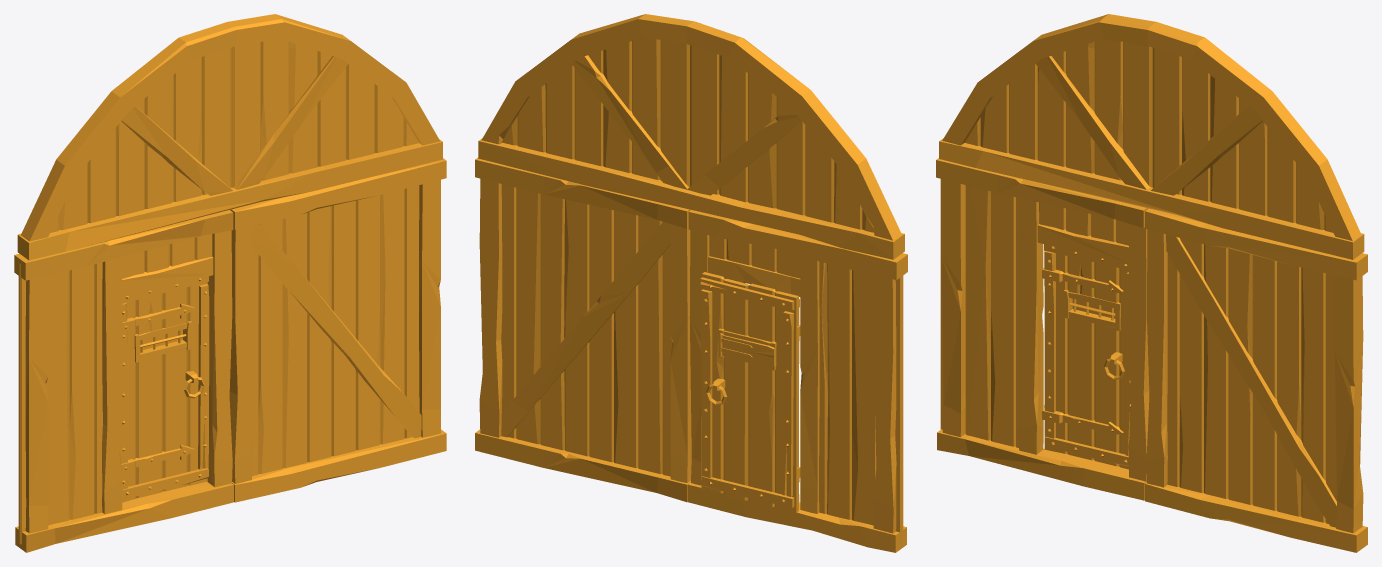
Rendered from SM_Door_Wood_Gate_Fantasy.fbx.
3 views of the same model, side by side, from view 1: azimuth 30°, elevation 25°; view 2: azimuth 150°, elevation 25°; view 3: azimuth 330°, elevation 25° (orthographic).
Visible parts, largest first — view 1: SM_Door_Wood_Gate_Fantasy_Door_R, SM_Door_Wood_Gate_Fantasy_Base, SM_Door_Wood_Gate_Fantasy_Door_L, SM_Door_Wood_Gate_Fantasy_Door; view 2: SM_Door_Wood_Gate_Fantasy_Door_R, SM_Door_Wood_Gate_Fantasy_Base, SM_Door_Wood_Gate_Fantasy_Door_L, SM_Door_Wood_Gate_Fantasy_Door, SM_Door_Wood_Gate_Fantasy_Door_Hatch; view 3: SM_Door_Wood_Gate_Fantasy_Door_R, SM_Door_Wood_Gate_Fantasy_Base, SM_Door_Wood_Gate_Fantasy_Door_L, SM_Door_Wood_Gate_Fantasy_Door.
Part boxes in pixels (x1,y1,x2,y2): SM_Door_Wood_Gate_Fantasy_Door_R: (229,158,446,502); SM_Door_Wood_Gate_Fantasy_Base: (17,14,442,260); SM_Door_Wood_Gate_Fantasy_Door_L: (14,210,233,552); SM_Door_Wood_Gate_Fantasy_Door: (119,276,209,502); SM_Door_Wood_Gate_Fantasy_Door_R: (475,157,691,502); SM_Door_Wood_Gate_Fantasy_Base: (478,14,904,259); SM_Door_Wood_Gate_Fantasy_Door_L: (687,210,907,552); SM_Door_Wood_Gate_Fantasy_Door: (700,272,800,513); SM_Door_Wood_Gate_Fantasy_Door_Hatch: (720,333,775,366); SM_Door_Wood_Gate_Fantasy_Door_R: (1145,208,1367,552); SM_Door_Wood_Gate_Fantasy_Base: (939,14,1364,259); SM_Door_Wood_Gate_Fantasy_Door_L: (936,158,1149,500); SM_Door_Wood_Gate_Fantasy_Door: (1042,244,1131,469).
Size of the model in its own units: 4.62 by 4.97 by 0.3711.
